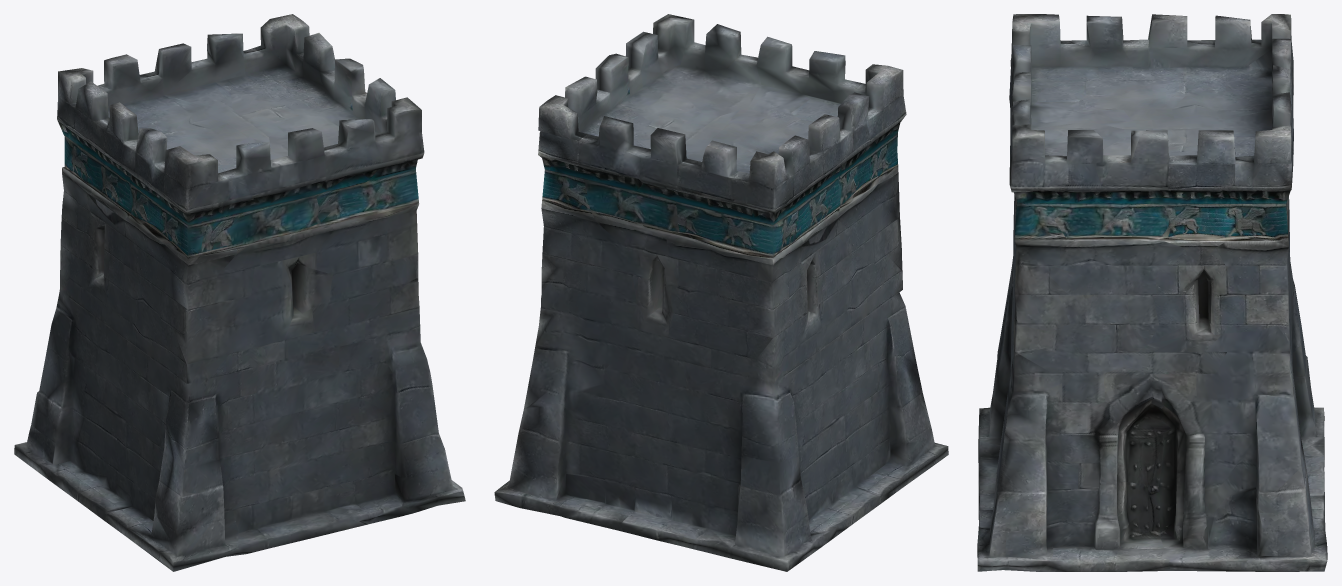
File: castle_tower_short_stone.glb
The picture shows the model from 3 angles, left to right: view 1: azimuth 30°, elevation 25°; view 2: azimuth 150°, elevation 25°; view 3: azimuth 270°, elevation 25°; orthographic projection. The views are drawn at different scales.
Visible parts, largest first — view 1: tripo_node_221b17b9-cf01-4565-99d7-f5f83b98dece; view 2: tripo_node_221b17b9-cf01-4565-99d7-f5f83b98dece; view 3: tripo_node_221b17b9-cf01-4565-99d7-f5f83b98dece.
Boxes of the visible parts, x1,y1,x2,y2 form: tripo_node_221b17b9-cf01-4565-99d7-f5f83b98dece: (14, 14, 465, 571); tripo_node_221b17b9-cf01-4565-99d7-f5f83b98dece: (494, 14, 948, 571); tripo_node_221b17b9-cf01-4565-99d7-f5f83b98dece: (977, 14, 1327, 571).
Size of the model in its own units: 0.7727 by 0.978 by 0.7404.
1 material, 1 textured.
